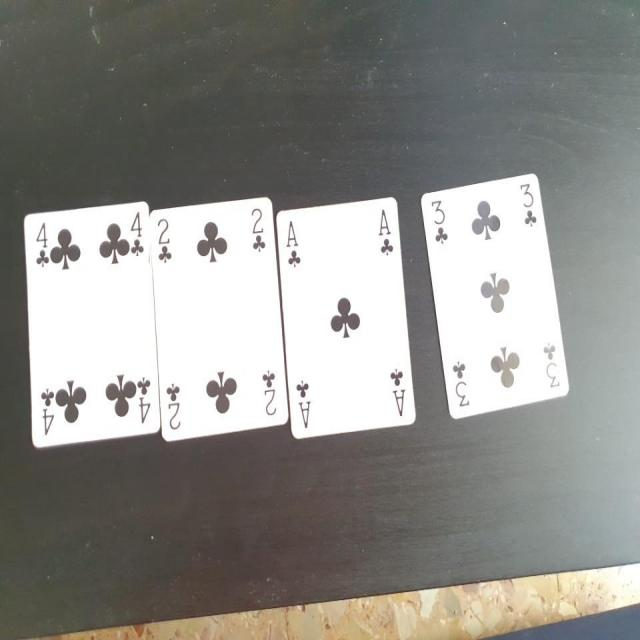2 Trefoils: (149, 192, 288, 441)
3 Trefoils: (417, 170, 574, 418)
4 Trefoils: (21, 202, 161, 447)
A Trefoils: (276, 196, 418, 440)
